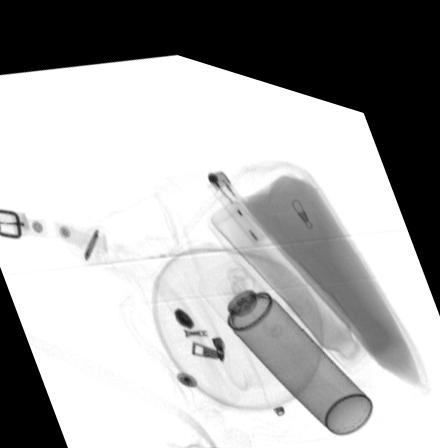Lighter: (198, 152, 272, 231)
Sprayer: (197, 240, 372, 413)
